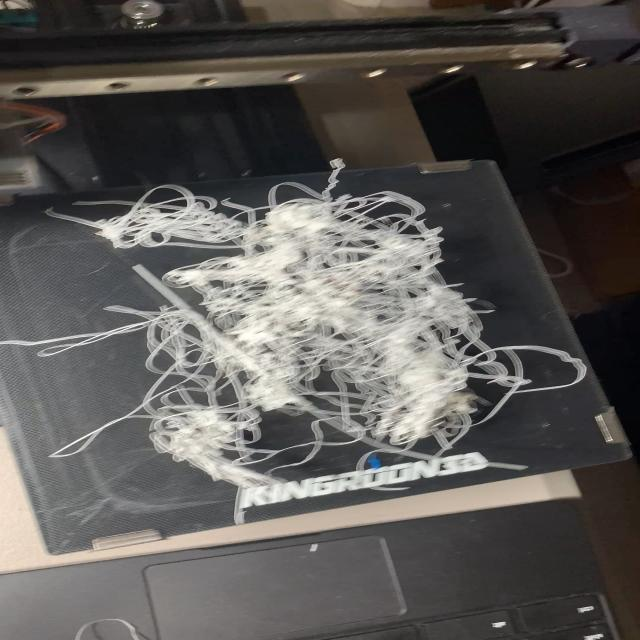spaghetti: (9, 161, 588, 495)
